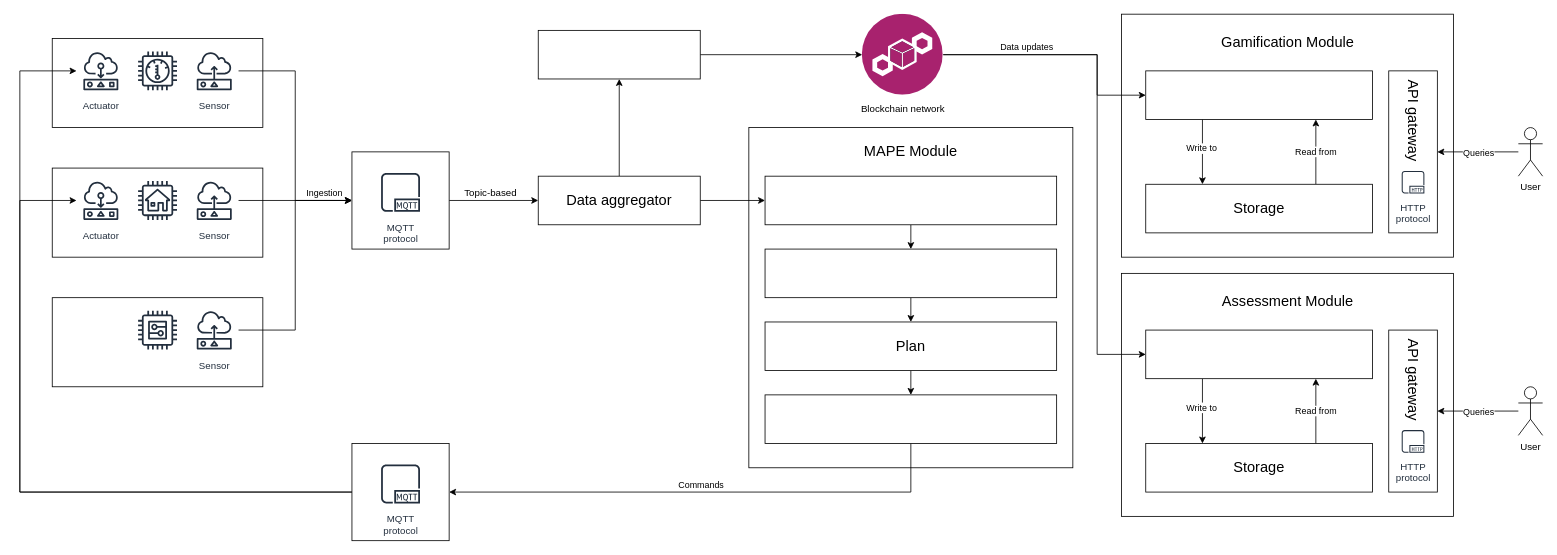
Some shapes in this 1557 by 555 pixel diagram are drawn without their labels. Each missing label, with the centre of its shape:
"Analytics & scoring engine" belongs at (x=1259, y=94).
"Analyze" belongs at (x=910, y=273).
"Assessment engine" belongs at (x=1259, y=354).
"Blockchain archiviation module" belongs at (x=618, y=54).
"Energy consumption" belongs at (x=157, y=329).
"Execute" belongs at (x=910, y=418).
"Heating/ c ooling" belongs at (x=157, y=70).
"Monitor" belongs at (x=910, y=200).
"Ventilation" belongs at (x=157, y=200).
